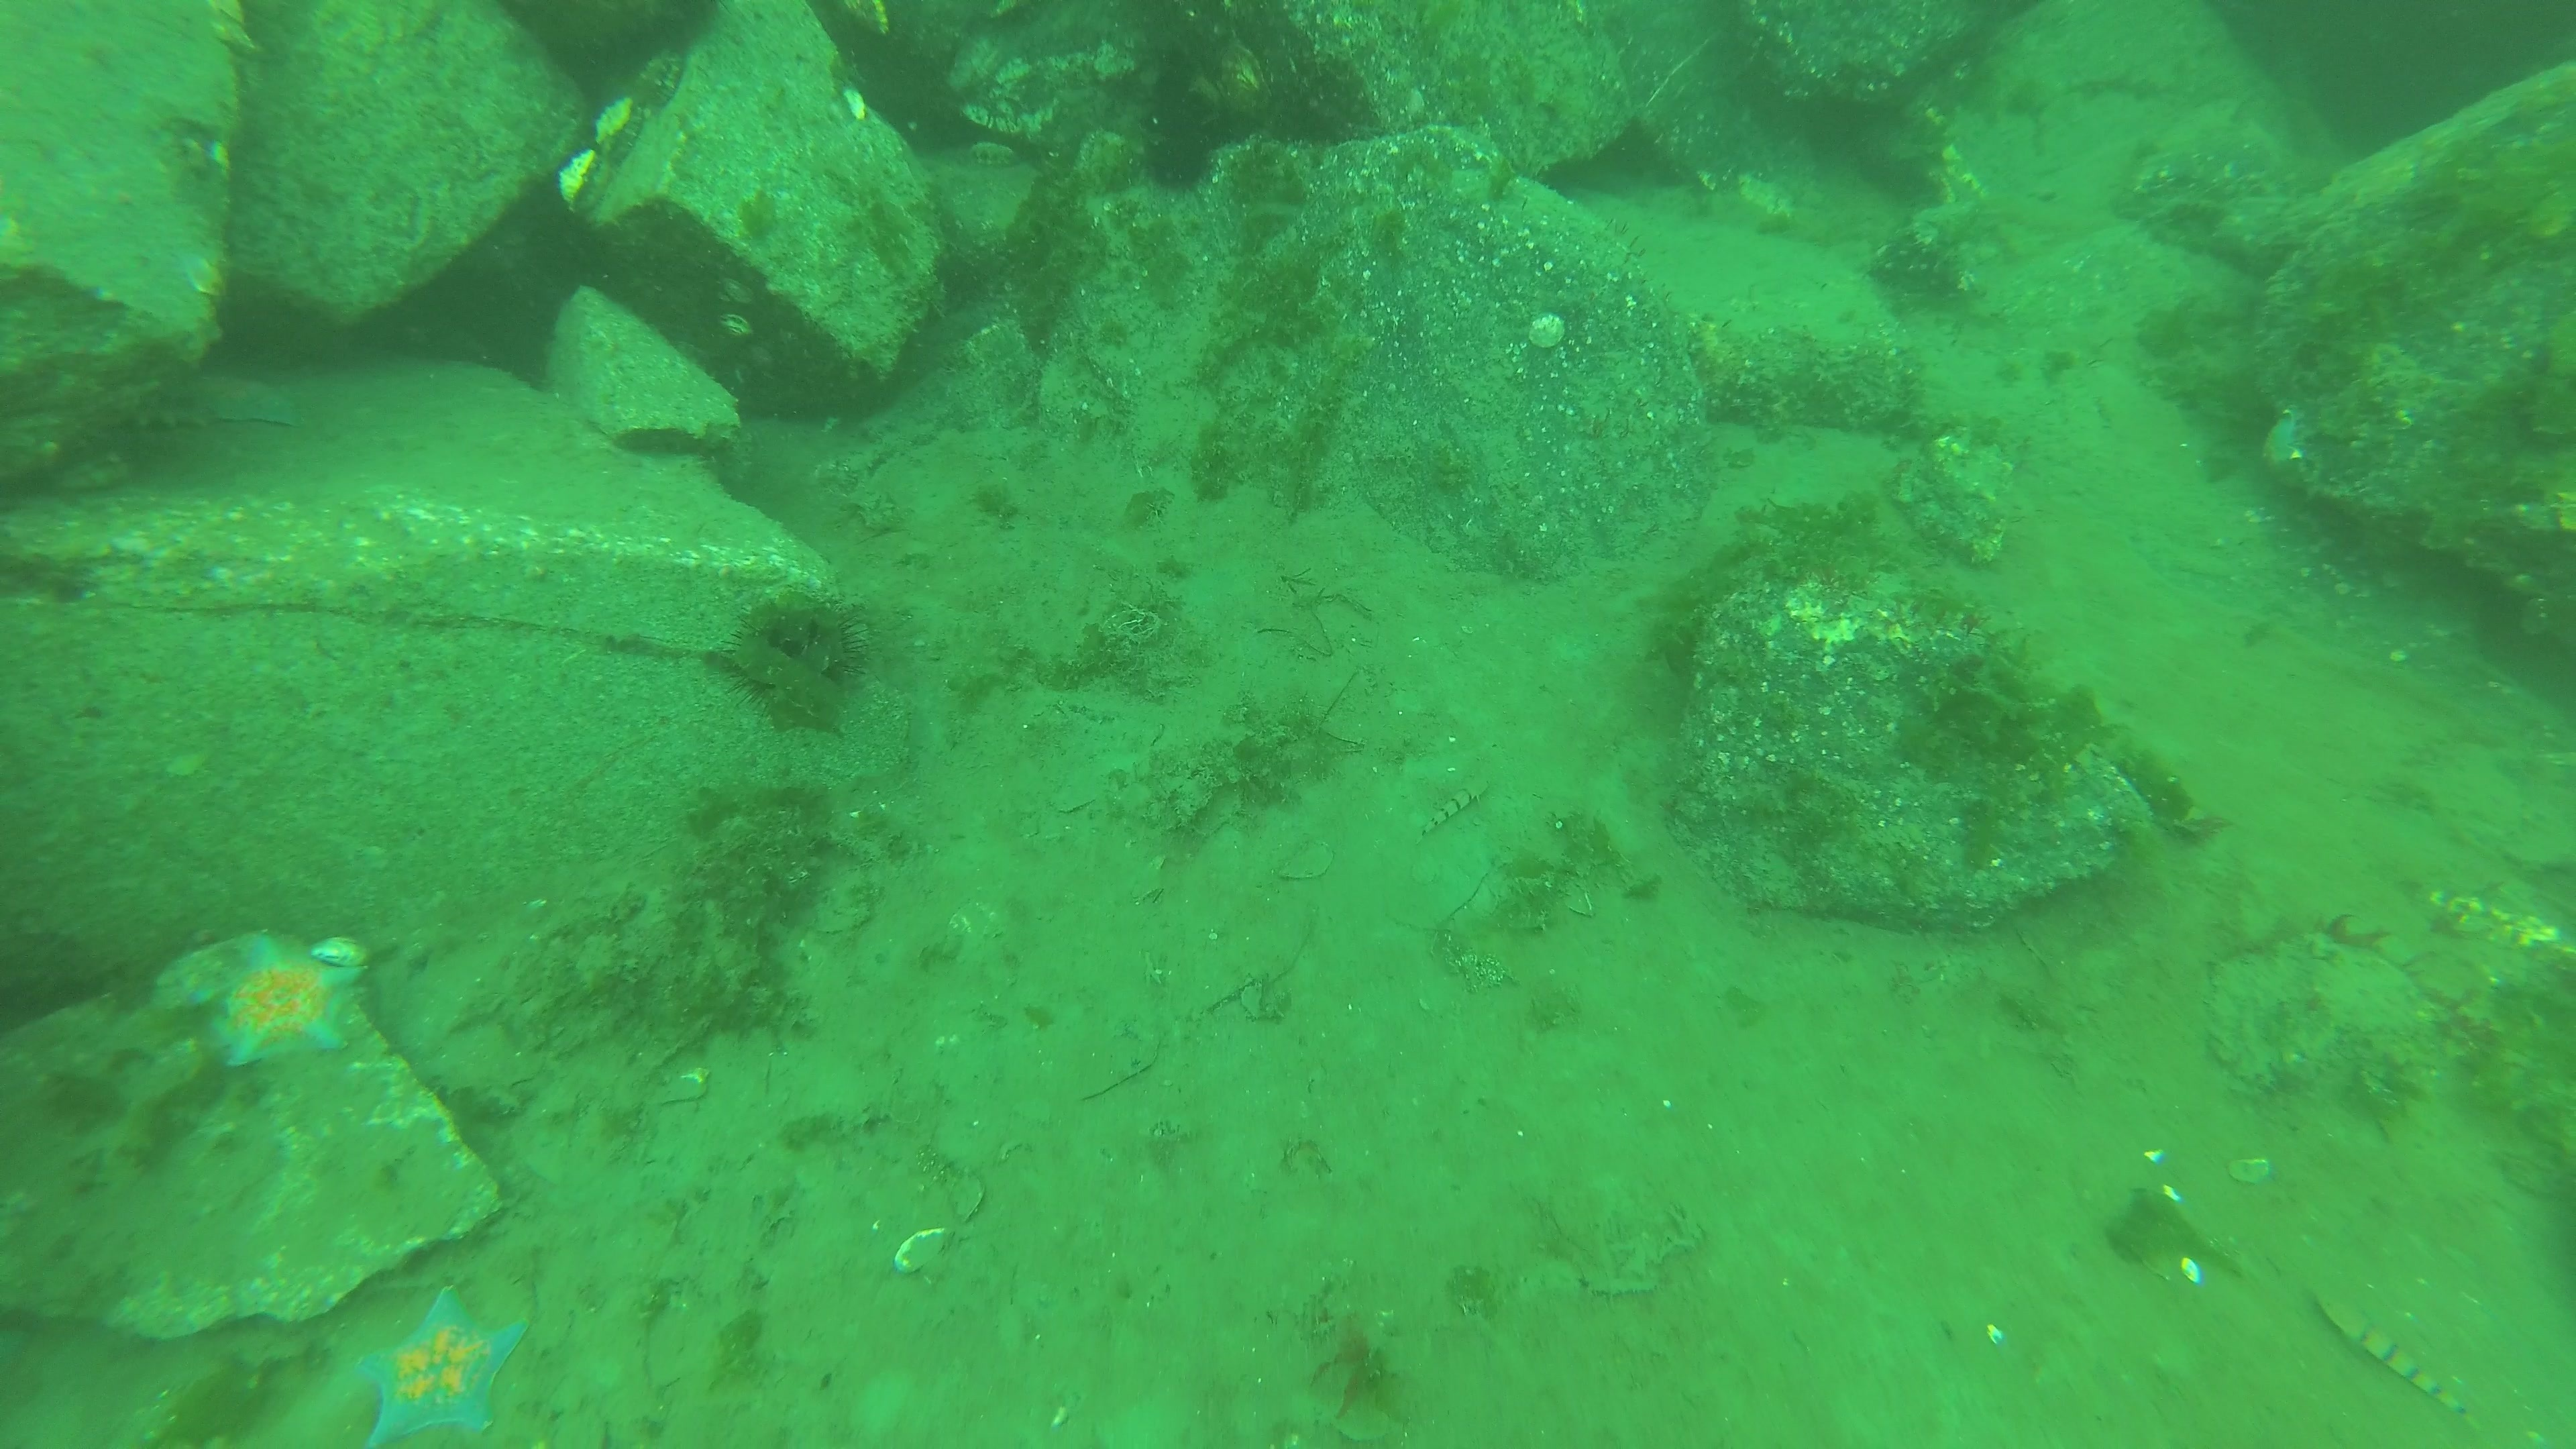echinus: (724, 594, 886, 747)
starfish: (352, 1283, 536, 1449), (186, 938, 377, 1074), (193, 364, 315, 432), (2254, 396, 2316, 502)
